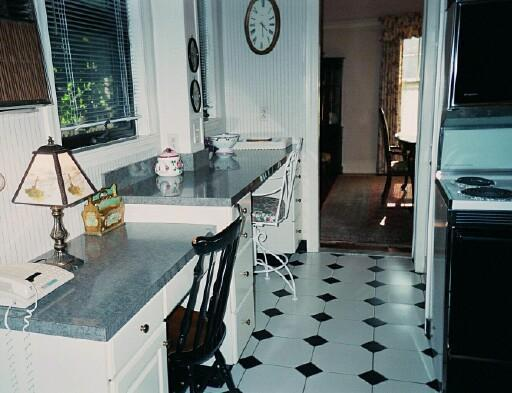Electrodomestico: (434, 117, 512, 385)
